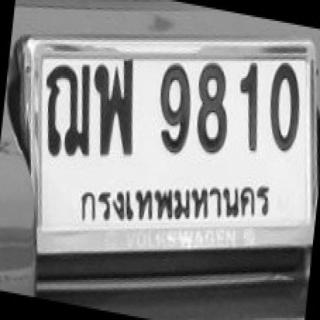A12: (41, 57, 94, 169)
A31: (95, 57, 139, 168)
N00: (267, 64, 304, 167)
N01: (234, 55, 268, 168)
N08: (192, 63, 235, 172)
N09: (157, 57, 193, 162)
P04: (76, 180, 286, 228)
